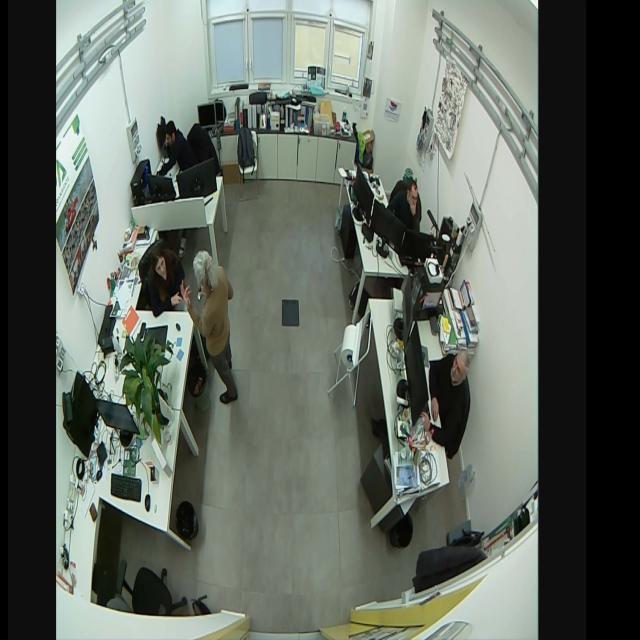Persona: (180, 249, 239, 406), (423, 347, 470, 445), (142, 248, 180, 320), (160, 117, 196, 176), (390, 176, 421, 232)
